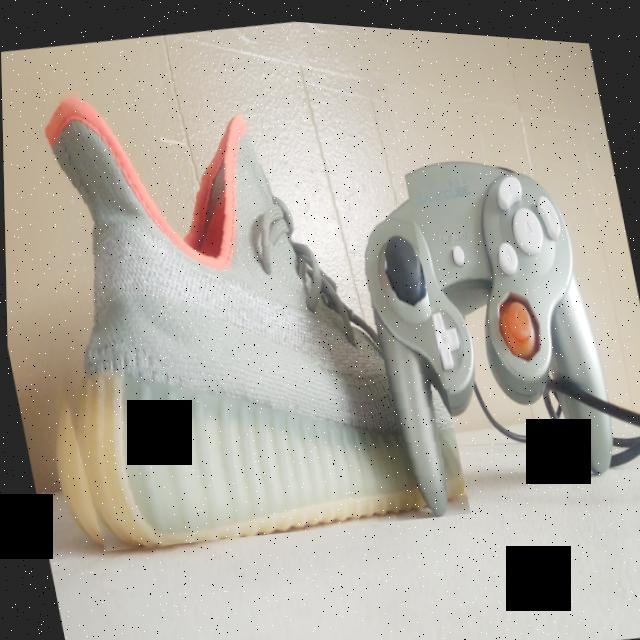shoe: (1, 29, 469, 575)
